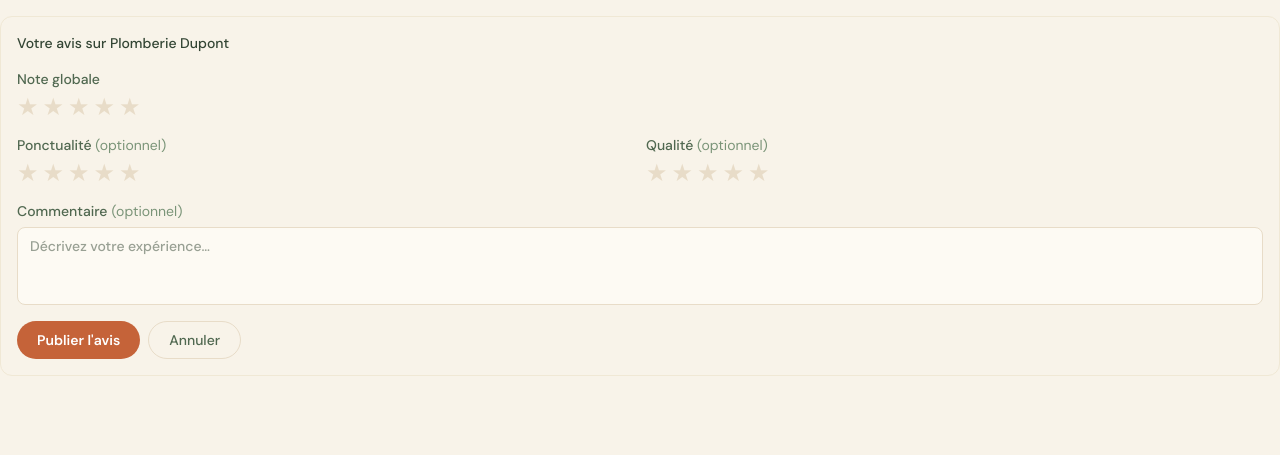
Test case: ReviewForm › shows an error banner and toast for other API errors
The image size is (1280, 455).
Click the button named "3 étoiles".
click(79, 107)  # box [68,95,90,119]
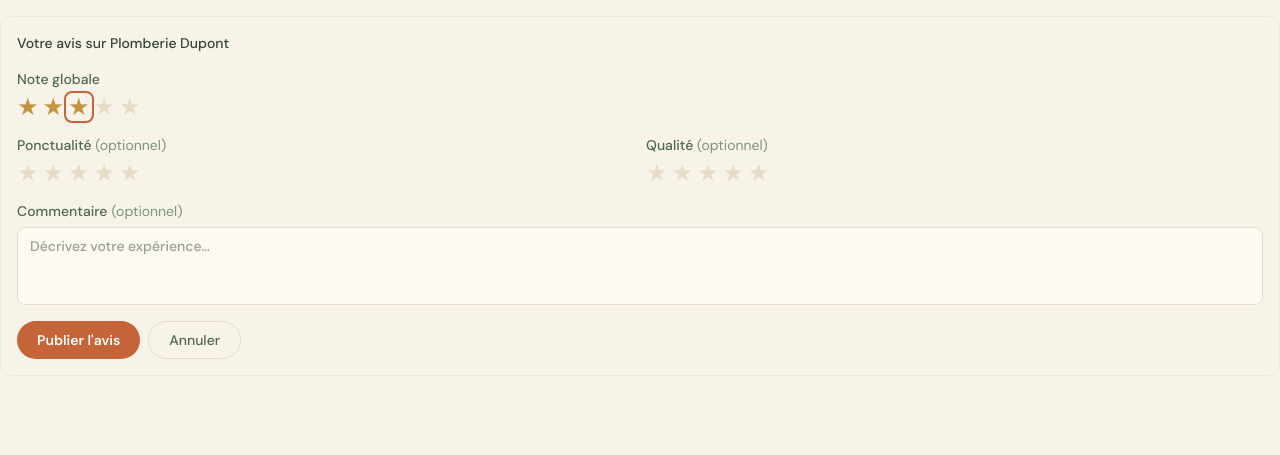
Click the button "Publier l'avis".
click(79, 340)  # box [17,321,140,359]
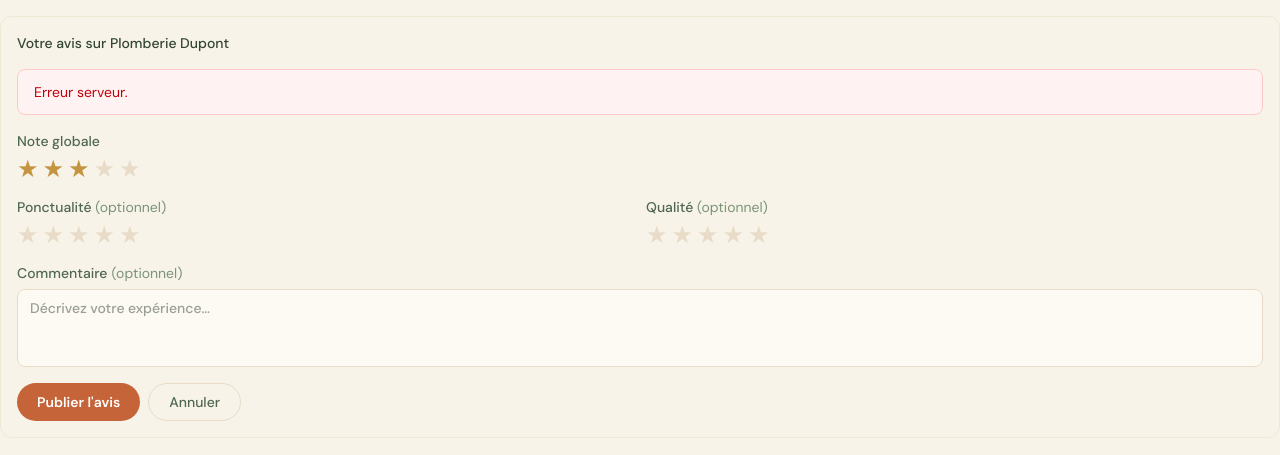
Result: the text "Erreur serveur." is shown at [17,69,1263,115]
